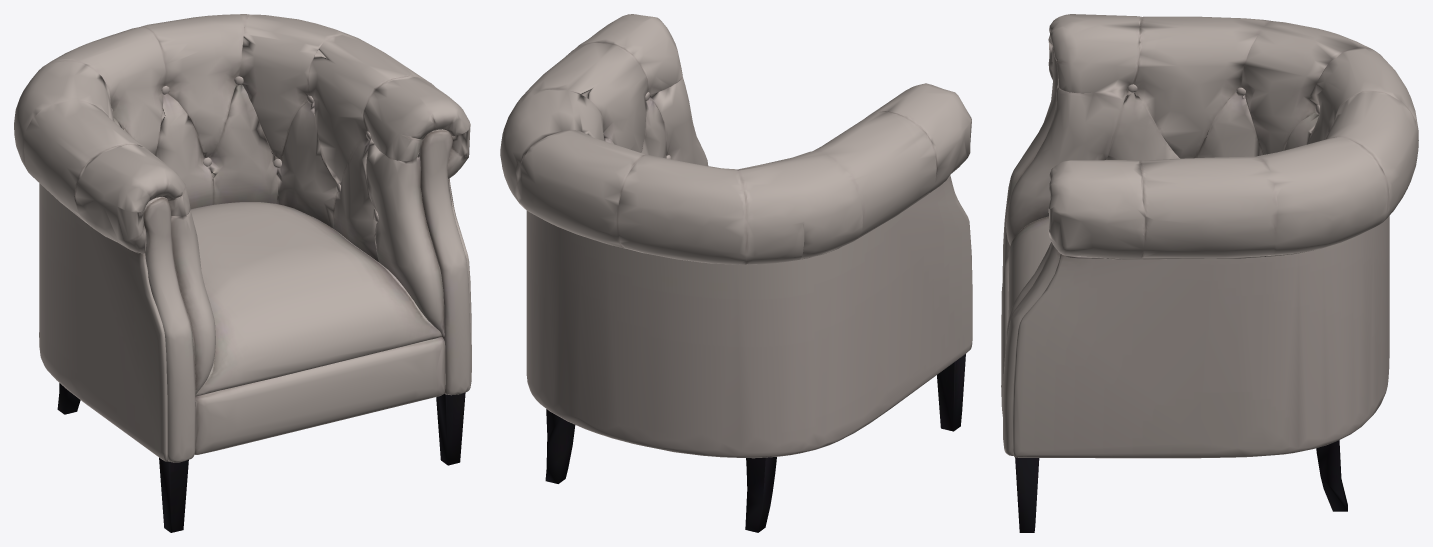
The model's file is B07DBGPHM9.glb.
3 views of the same model, side by side, from view 1: azimuth 30°, elevation 25°; view 2: azimuth 150°, elevation 25°; view 3: azimuth 270°, elevation 25° (orthographic). The views are drawn at different scales.
Visible parts, largest first — view 1: RootNode; view 2: RootNode; view 3: RootNode.
Boxes of the visible parts, left/top/right/bottom form: RootNode: left=14, top=14, right=471, bottom=532; RootNode: left=500, top=14, right=972, bottom=532; RootNode: left=1001, top=14, right=1418, bottom=532.
Bounding box in the file's own units: 0.9031 × 0.826 × 0.8507.
Materials: 1 (1 with a texture image).
